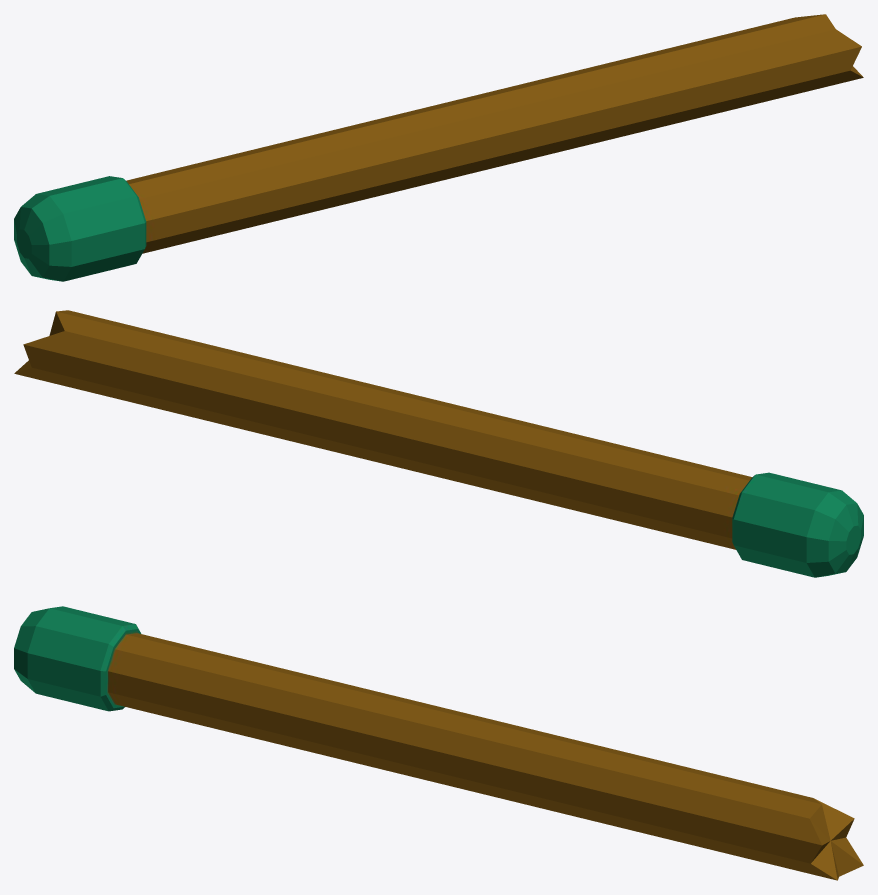
Rendered from AbajoCuerpoRotoRastrillo.fbx.
3 renders of one model, top to bottom at view 1: azimuth 30°, elevation 25°; view 2: azimuth 150°, elevation 25°; view 3: azimuth 330°, elevation 25°, orthographic.
Visible parts, largest first — view 1: AbajoCuerpoRoto; view 2: AbajoCuerpoRoto; view 3: AbajoCuerpoRoto.
Part boxes in pixels (x1,y1,x2,y2): AbajoCuerpoRoto: [14, 14, 863, 281]; AbajoCuerpoRoto: [14, 310, 863, 577]; AbajoCuerpoRoto: [14, 606, 863, 880].
Size of the model in its own units: 33.42 by 3.22 by 3.06.
